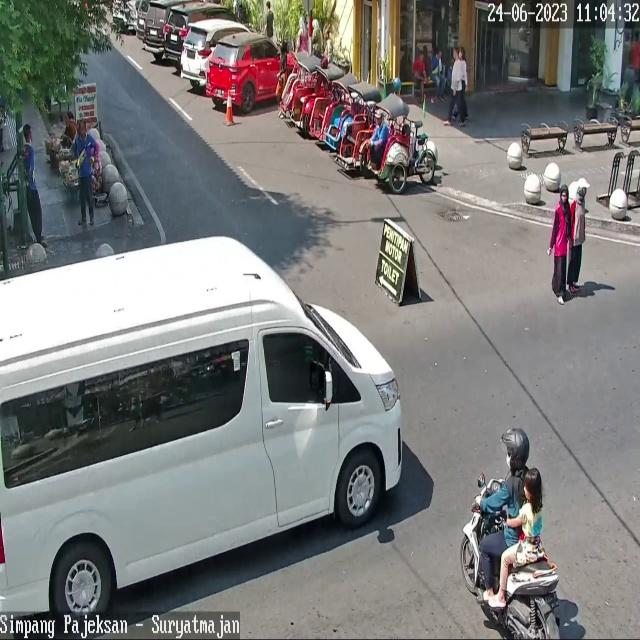bus: (459, 477, 562, 640)
car: (0, 236, 403, 628)
motorcycle: (206, 33, 300, 113), (163, 4, 246, 64), (181, 21, 252, 87), (143, 0, 169, 53)
